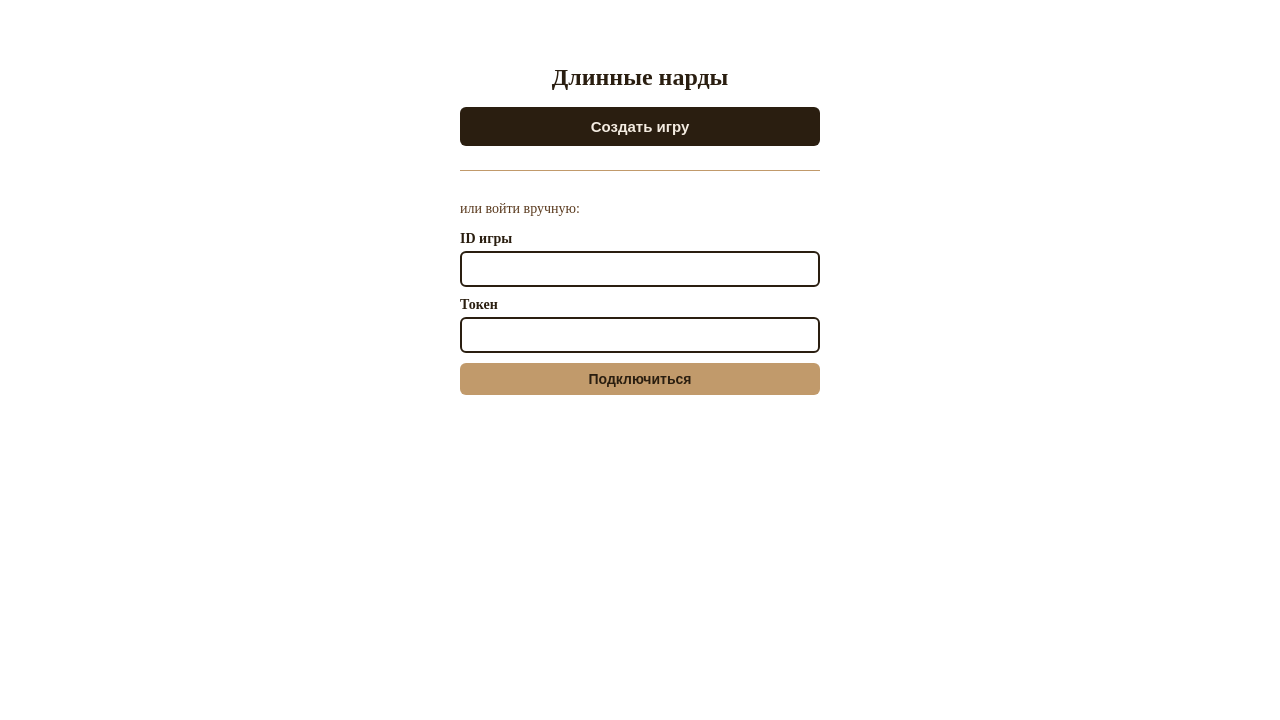
Test: App new game (#24b) › App_newGame_clearsCredsAndReturnsToConnect
Type "g-1" into the field labelled "ID игры" at (640, 270), box [460,252,820,288]
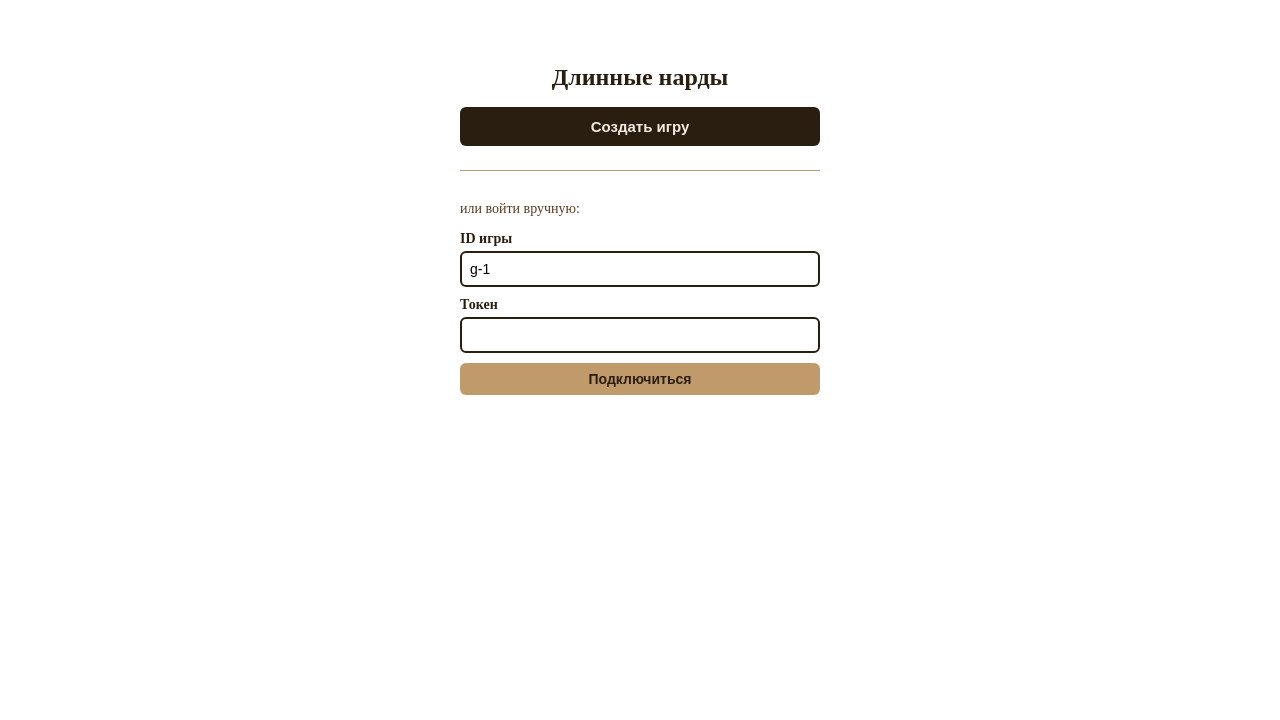
Type "tok" into the password field labelled "Токен" at (640, 335), box [460,317,820,353]
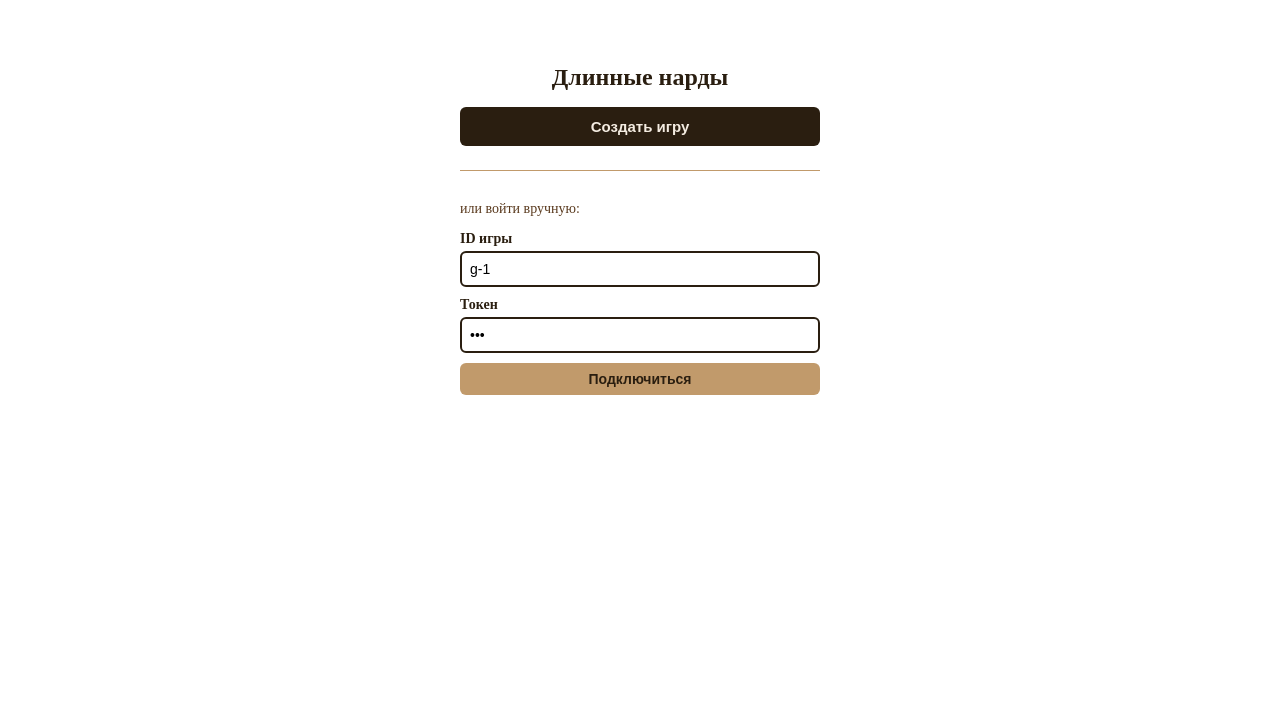
Click the button "Подключиться" at (640, 379), box [460,363,820,395]
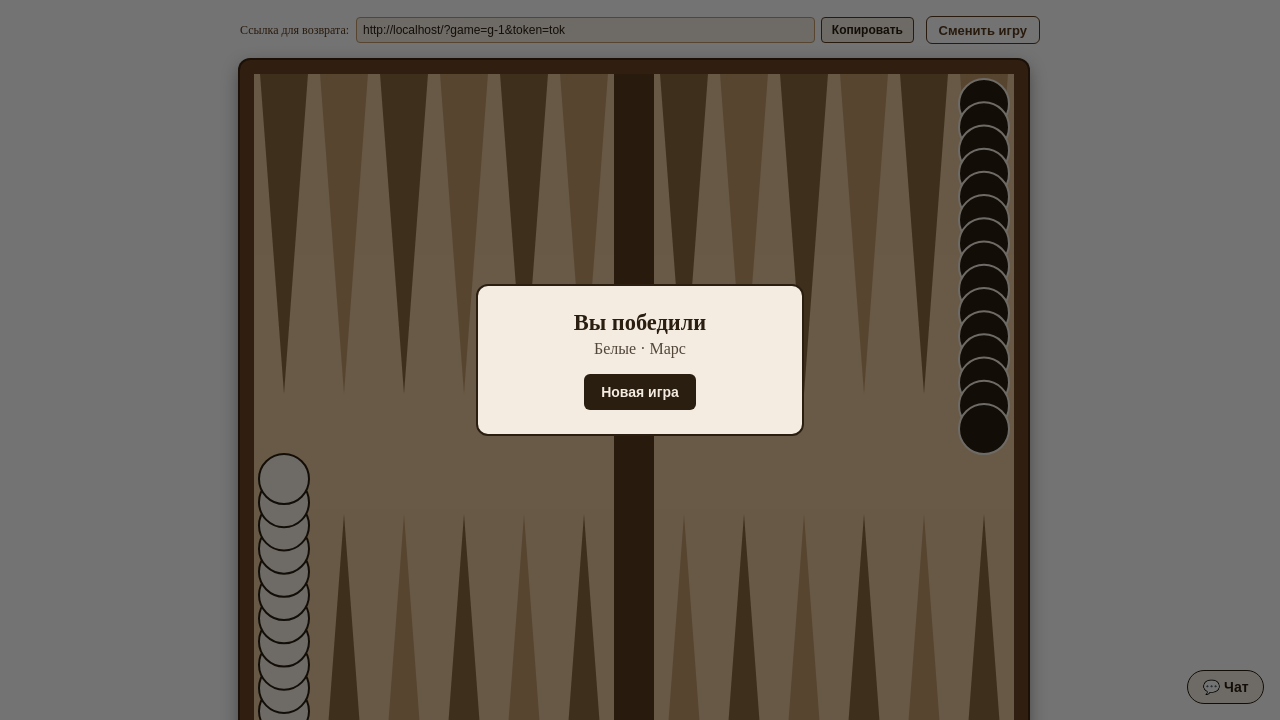
Click the button with test id "action-new-game" at (640, 392), box [584,374,696,410]
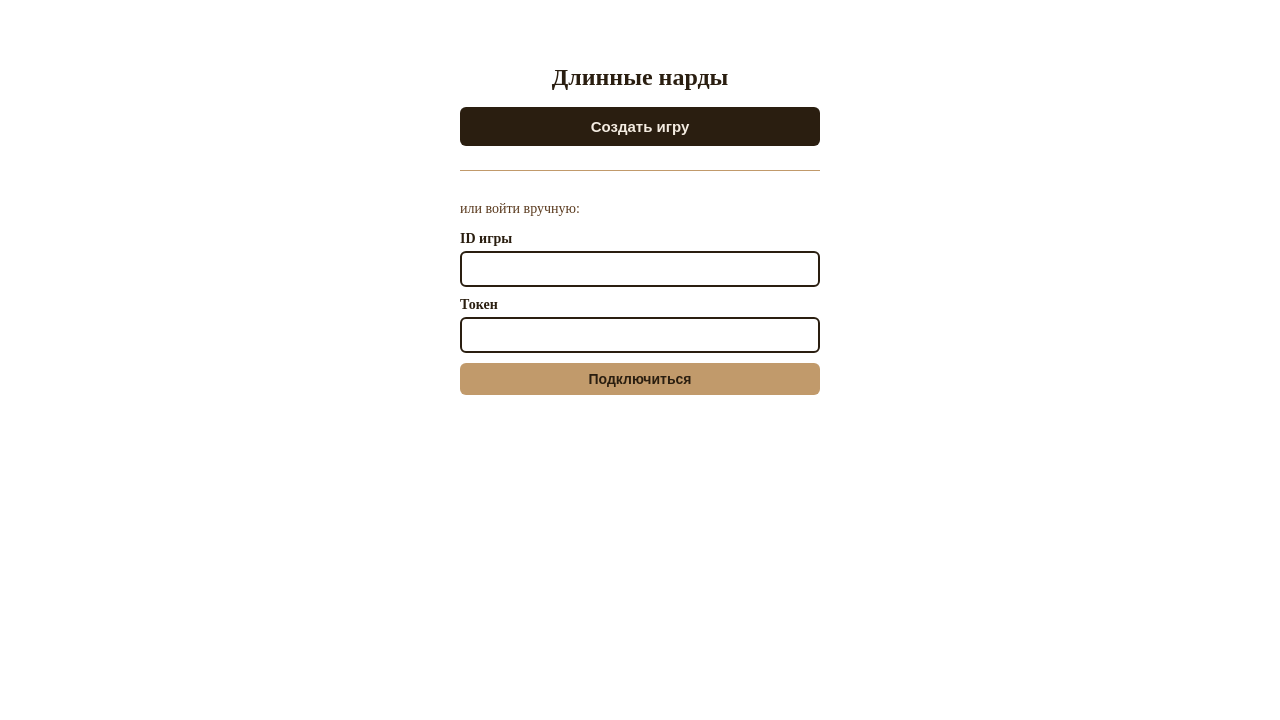
Now the field labelled "ID игры" is shown, box [460,252,820,288]
